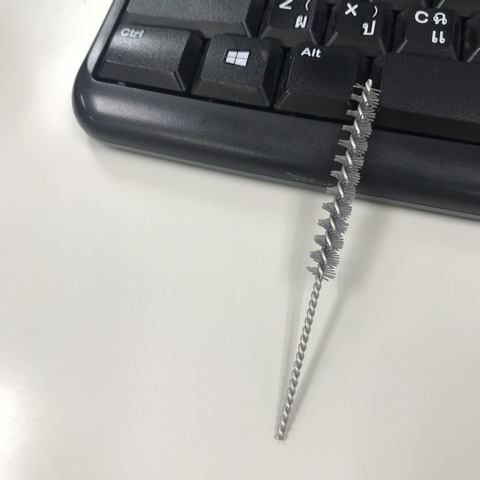Twist Brush-A: (273, 80, 387, 441)
